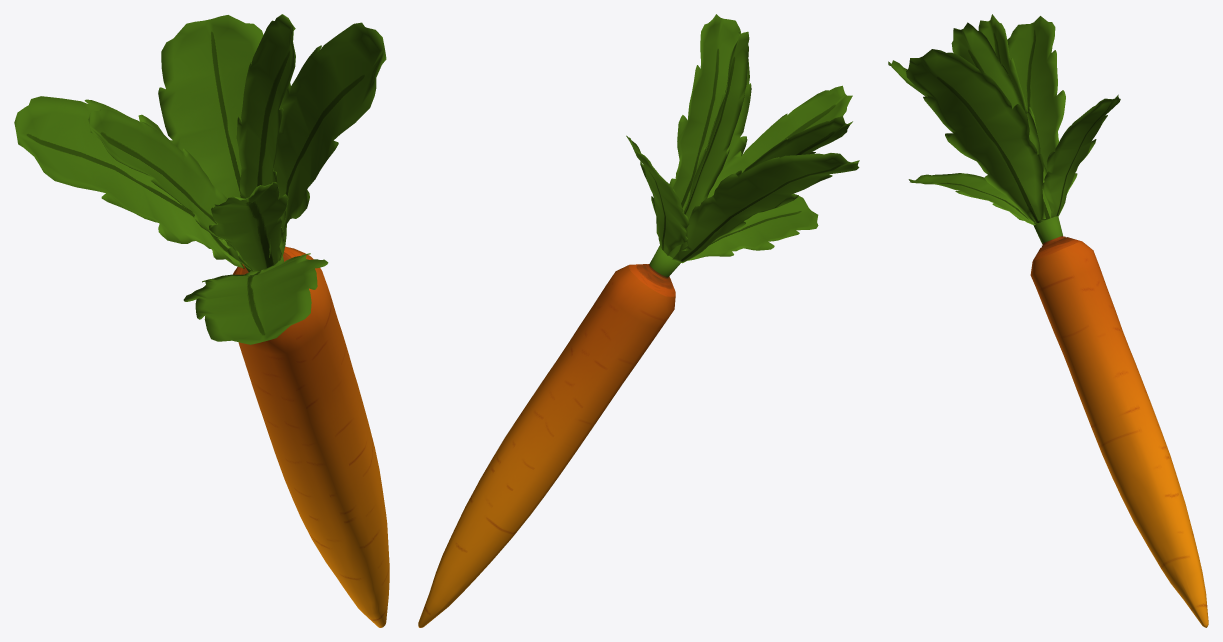
File: carrot_dynamic.obj
3 views of the same model, side by side, from view 1: azimuth 30°, elevation 25°; view 2: azimuth 150°, elevation 25°; view 3: azimuth 270°, elevation 25° (orthographic). The views are drawn at different scales.
Bounding box in the file's own units: 0.462 × 0.7109 × 0.3999.
3 materials, 3 textured.
